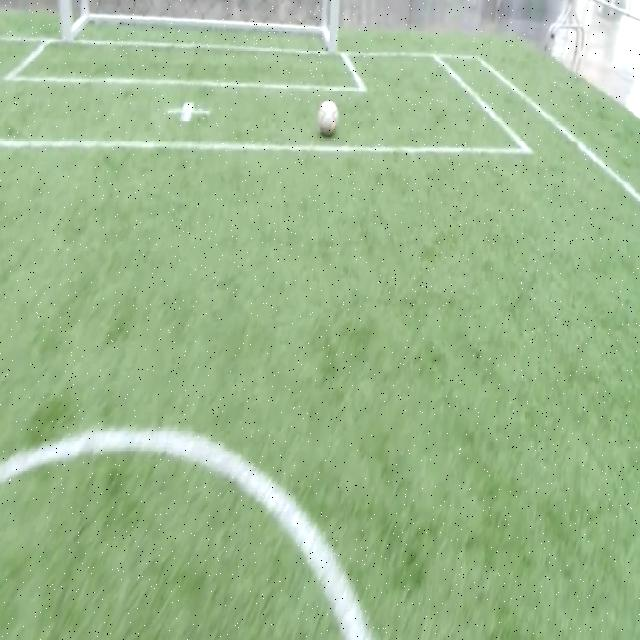ball: (317, 100, 338, 136)
goalpost: (321, 15, 342, 63), (60, 4, 78, 51)
